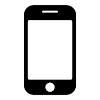Smartphone: (27, 7, 76, 90)
